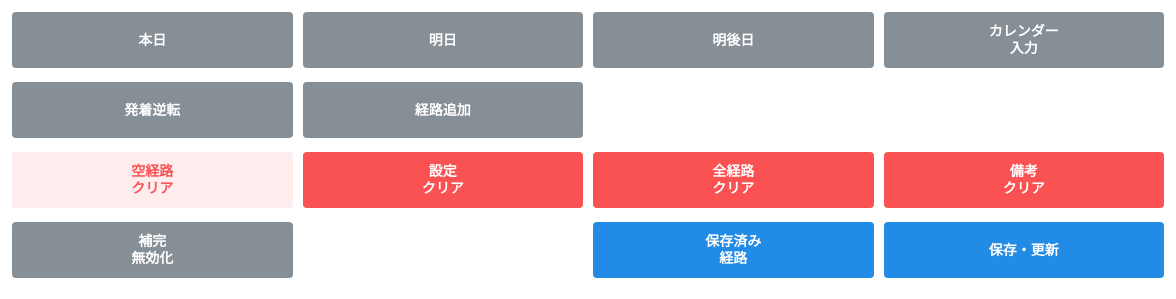
Test: ControlButtons › 補完の有効状態を切り替えられる
Click the button "補完 無効化": [152, 250] box [12,222,292,278]
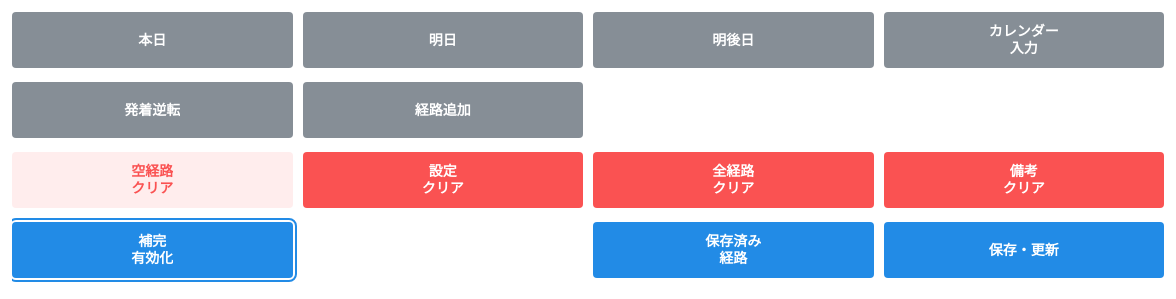
Expected: the button "補完 有効化" is shown
Click the button "補完 有効化": [152, 250] box [12,222,292,278]
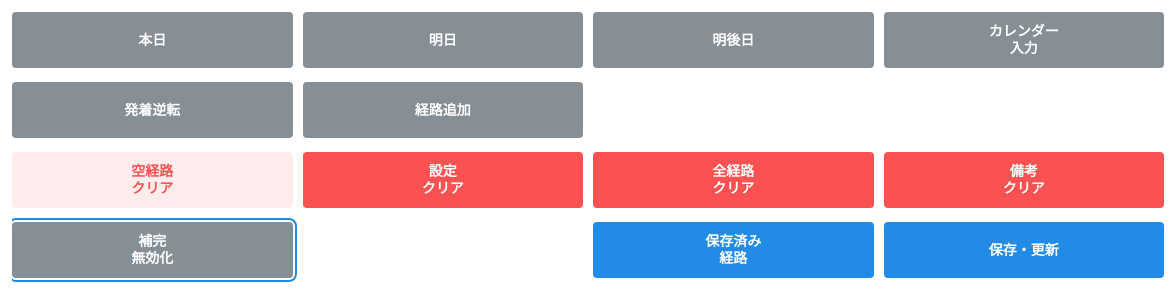
Expected: the button "補完 無効化" is shown, [12,222,292,278]
